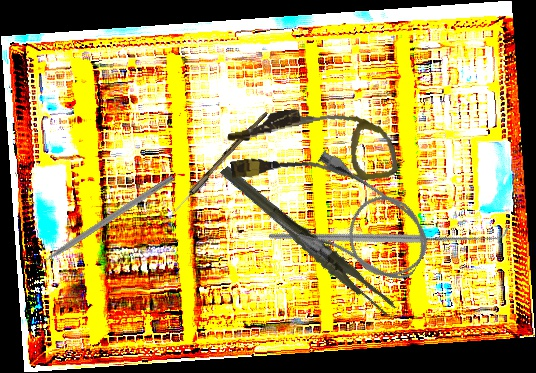Cannula: (267, 144, 444, 305), (224, 95, 399, 200)
Chopper: (25, 167, 175, 272)
Hook Surgical: (267, 123, 510, 343)
Surgical Spoon: (161, 108, 269, 227)
Tissue Forceps: (218, 138, 398, 342)
